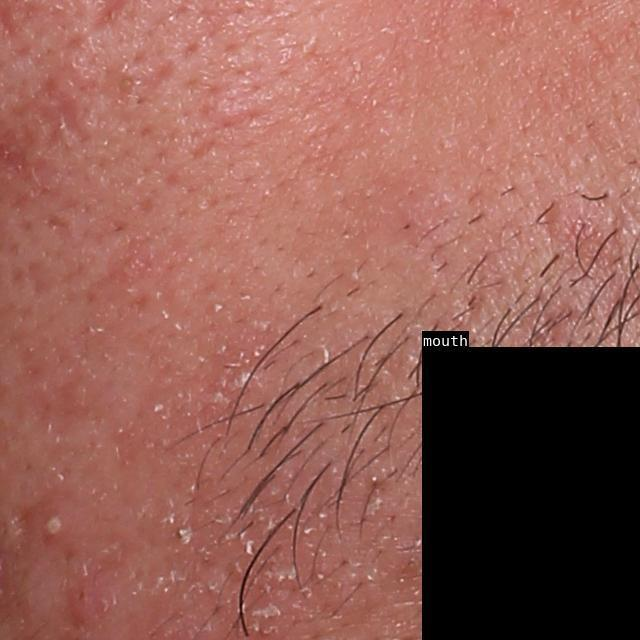comedo: (111, 74, 138, 99)
pustule: (36, 499, 81, 550)
